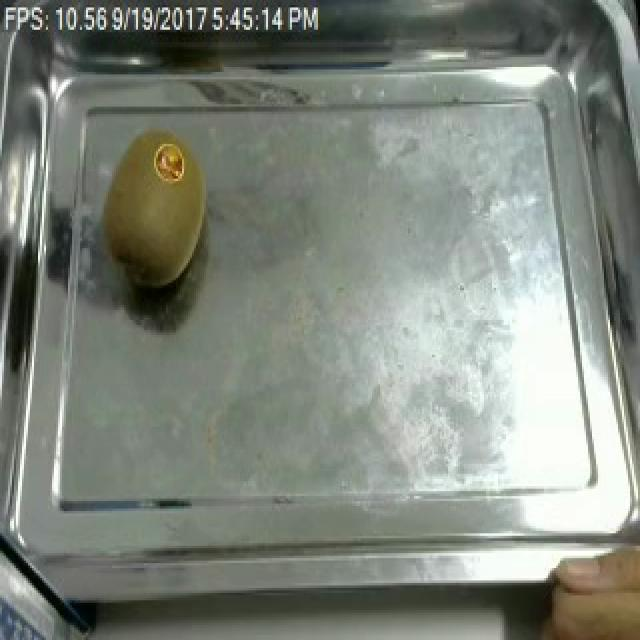Fruit: (92, 124, 216, 298)
